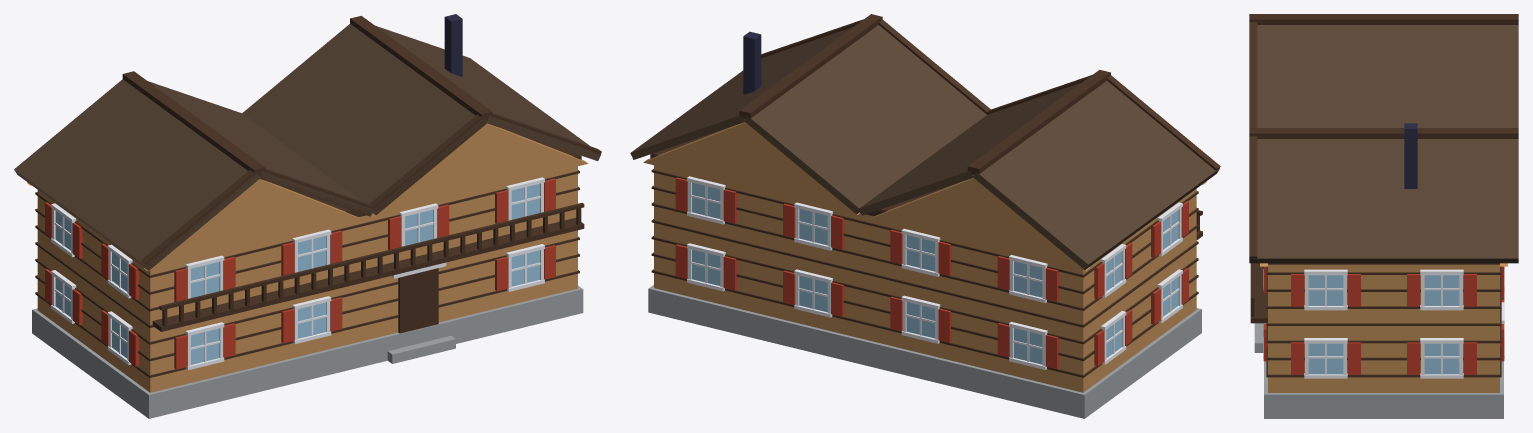
Rendered from house-2x1-2f-chalet-a.glb.
The picture shows the model from 3 angles, left to right: view 1: azimuth 30°, elevation 25°; view 2: azimuth 150°, elevation 25°; view 3: azimuth 270°, elevation 25°; orthographic projection. The views are drawn at different scales.
Visible parts, largest first — view 1: house-2x1-2f-chalet-a; view 2: house-2x1-2f-chalet-a; view 3: house-2x1-2f-chalet-a.
Boxes of the visible parts, x1=… form: house-2x1-2f-chalet-a: x1=14, y1=14, x2=601, y2=418; house-2x1-2f-chalet-a: x1=630, y1=14, x2=1220, y2=418; house-2x1-2f-chalet-a: x1=1249, y1=14, x2=1518, y2=418.
Size of the model in its own units: 2.01 by 1.08 by 1.
1 material, 1 textured.
